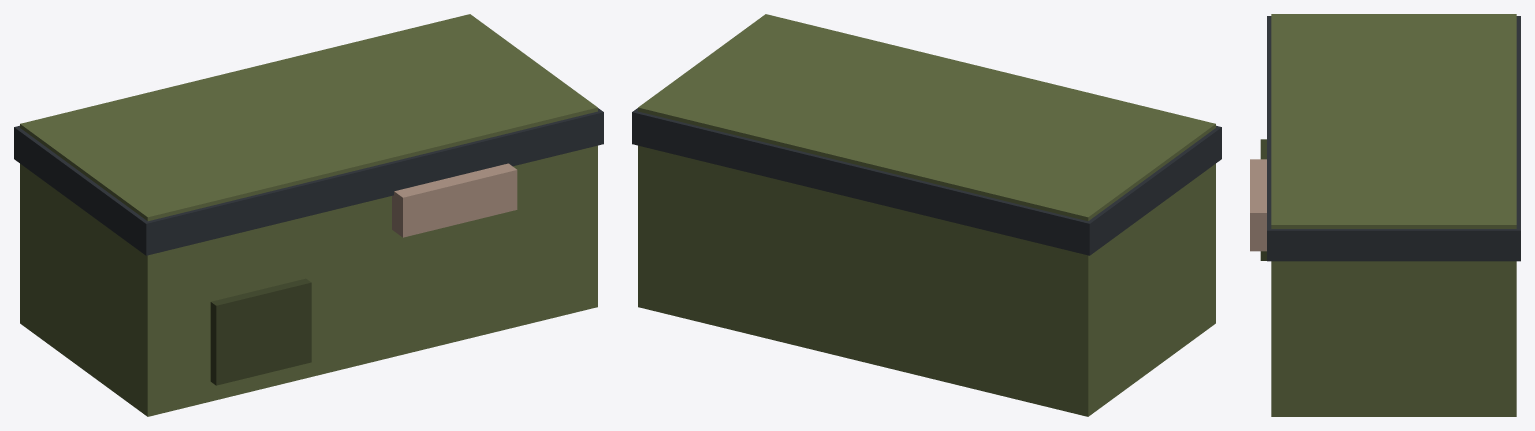
The model's file is inf_brute_lower_torso.fbx.
3 views of the same model, side by side, from view 1: azimuth 30°, elevation 25°; view 2: azimuth 150°, elevation 25°; view 3: azimuth 270°, elevation 25° (orthographic). The views are drawn at different scales.
Visible parts, largest first — view 1: inf_brute_lower_torso; view 2: inf_brute_lower_torso; view 3: inf_brute_lower_torso.
Boxes of the visible parts, box(x1,y1,x2,y2) form: inf_brute_lower_torso: box(14, 14, 603, 416); inf_brute_lower_torso: box(632, 14, 1221, 416); inf_brute_lower_torso: box(1250, 14, 1520, 416).
Size of the model in its own units: 240 by 100 by 128.
